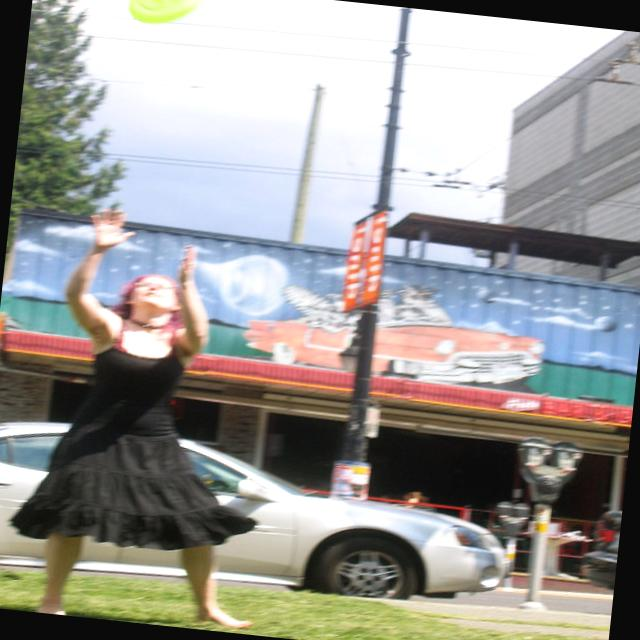Vehicle: (0, 411, 527, 622), (578, 504, 622, 590)
